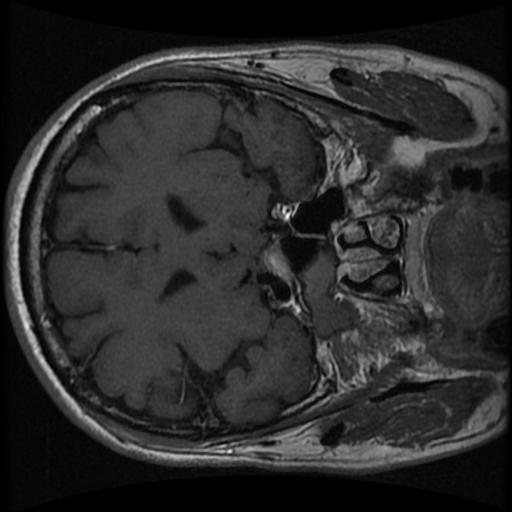pituitary tumour: (264, 244, 293, 281)
